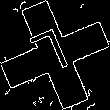L_SE: (31, 26, 79, 84)
